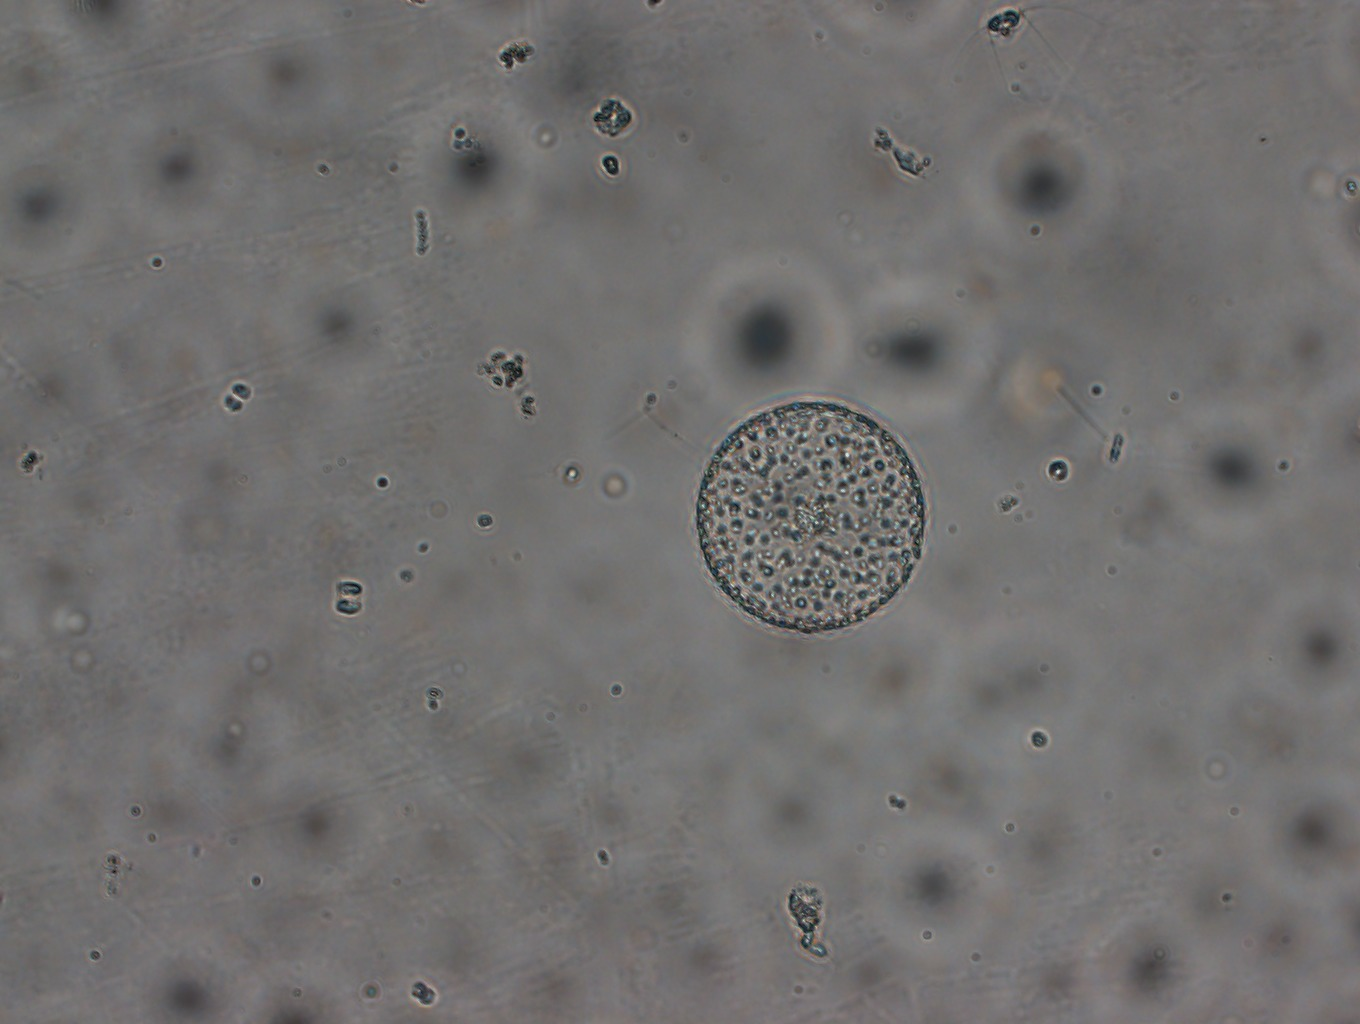coscinodiscus: (695, 397, 927, 632)
